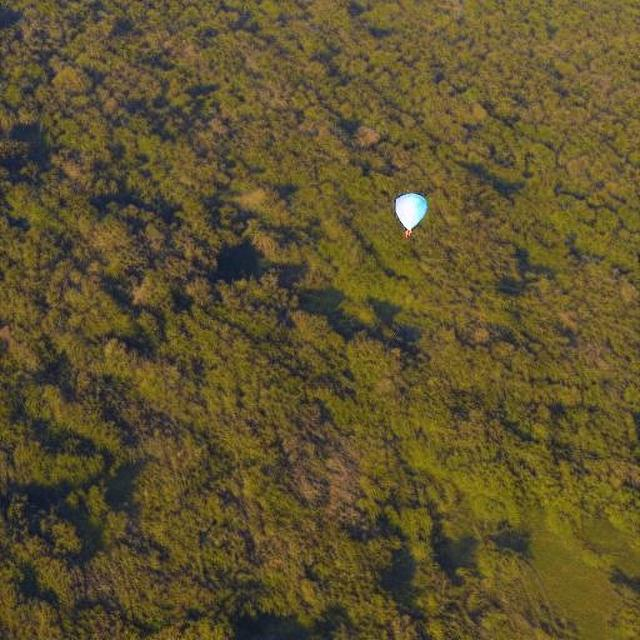balloon: (393, 190, 428, 238)
